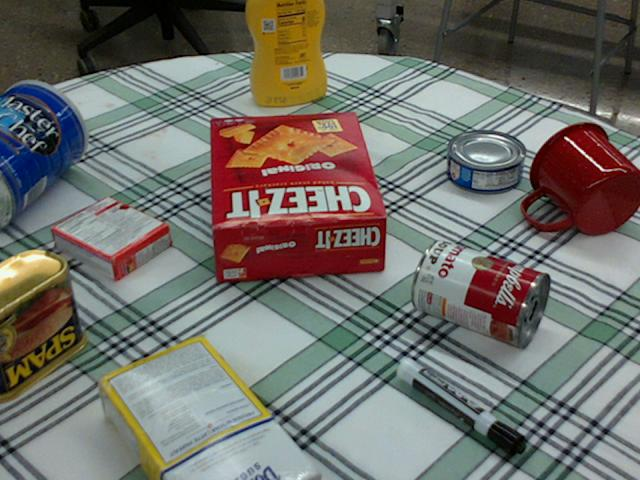cracker_box: (206, 111, 382, 279)
gelatin_box: (52, 194, 170, 281)
large_marker: (398, 357, 525, 458)
master_chef_can: (0, 80, 86, 231)
mug: (523, 122, 639, 235)
mustard_bottle: (246, 0, 326, 106)
potted_meat_can: (0, 247, 86, 399)
sugar_box: (91, 338, 317, 479)
tomato_soup_can: (410, 237, 549, 348)
tuna_fish_can: (446, 130, 526, 193)
